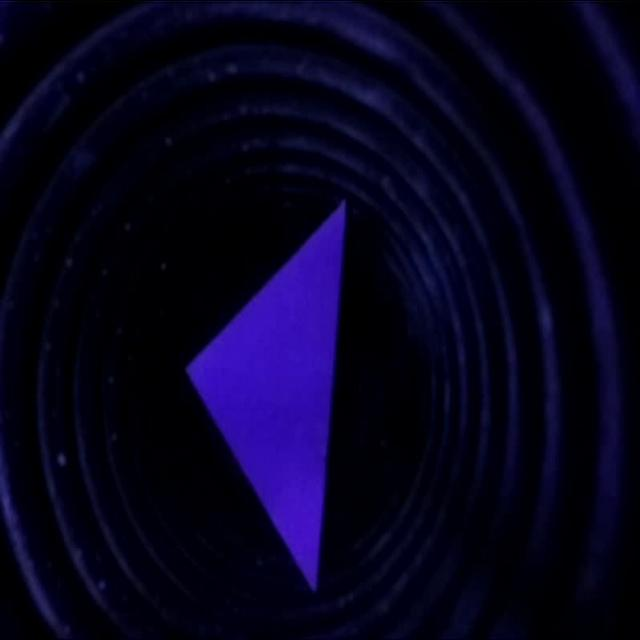obstacles: (189, 202, 349, 588)
